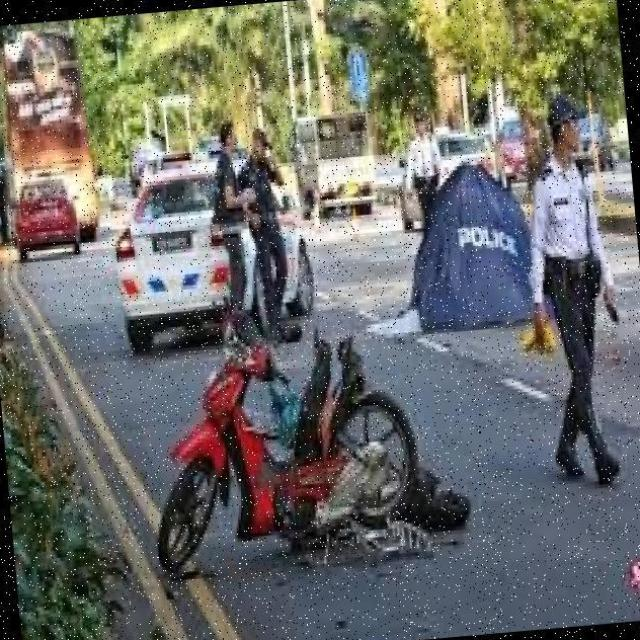accident: (157, 301, 477, 614)
